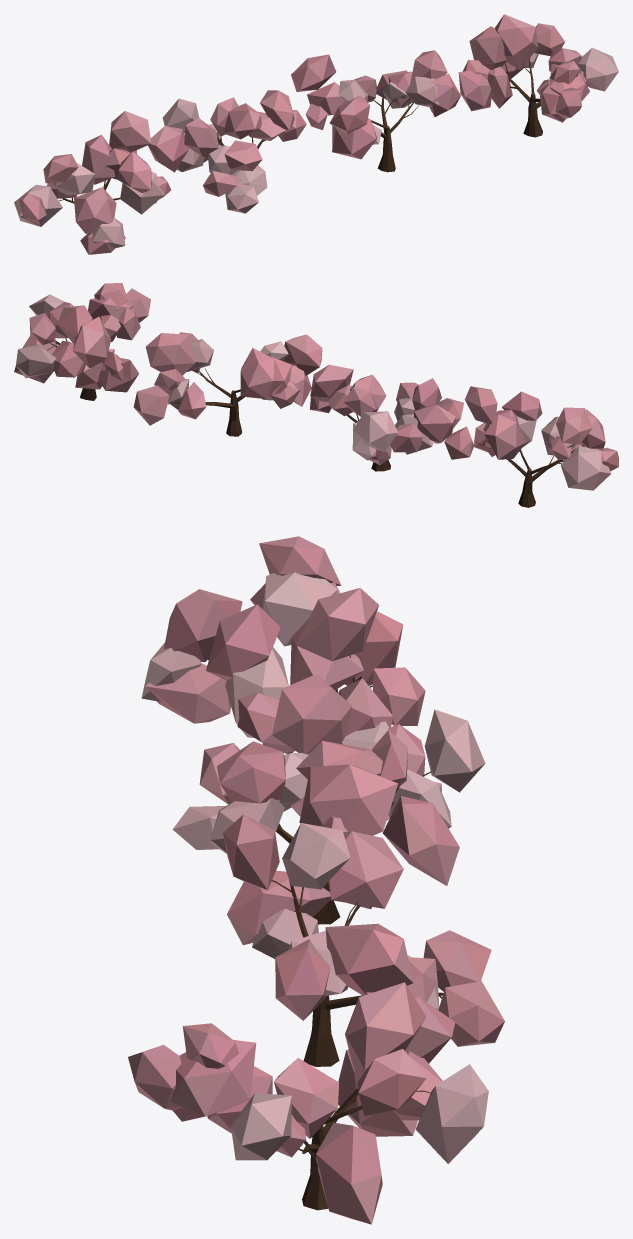
The model's file is ranvora_v2_sakura.glb.
The picture shows the model from 3 angles, top to bottom: view 1: azimuth 30°, elevation 25°; view 2: azimuth 150°, elevation 25°; view 3: azimuth 270°, elevation 25°; orthographic projection. The views are drawn at different scales.
Visible parts, largest first — view 1: sakura_A_mesh, sakura_D_mesh, sakura_B_mesh, sakura_C_mesh; view 2: sakura_D_mesh, sakura_C_mesh, sakura_A_mesh, sakura_B_mesh; view 3: sakura_D_mesh, sakura_C_mesh, sakura_A_mesh, sakura_B_mesh.
Boxes of the visible parts, bbox=[...] form: sakura_A_mesh: bbox=[14, 111, 171, 254]; sakura_D_mesh: bbox=[458, 14, 618, 137]; sakura_B_mesh: bbox=[148, 90, 306, 213]; sakura_C_mesh: bbox=[291, 50, 460, 172]; sakura_D_mesh: bbox=[14, 283, 150, 400]; sakura_C_mesh: bbox=[133, 332, 322, 436]; sakura_A_mesh: bbox=[444, 386, 618, 507]; sakura_B_mesh: bbox=[310, 364, 463, 471]; sakura_D_mesh: bbox=[128, 982, 488, 1224]; sakura_C_mesh: bbox=[223, 796, 504, 1066]; sakura_A_mesh: bbox=[141, 536, 425, 753]; sakura_B_mesh: bbox=[172, 674, 485, 924].
Size of the model in its own units: 30.27 by 5.55 by 8.39.
